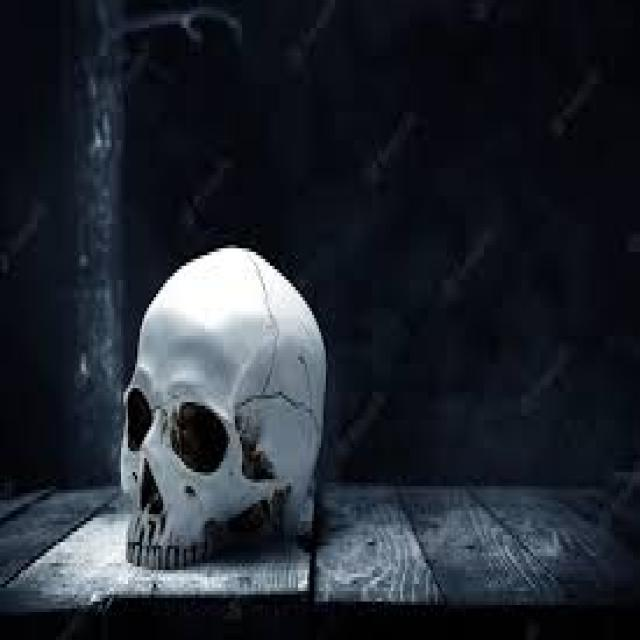skull: (110, 221, 334, 584)
